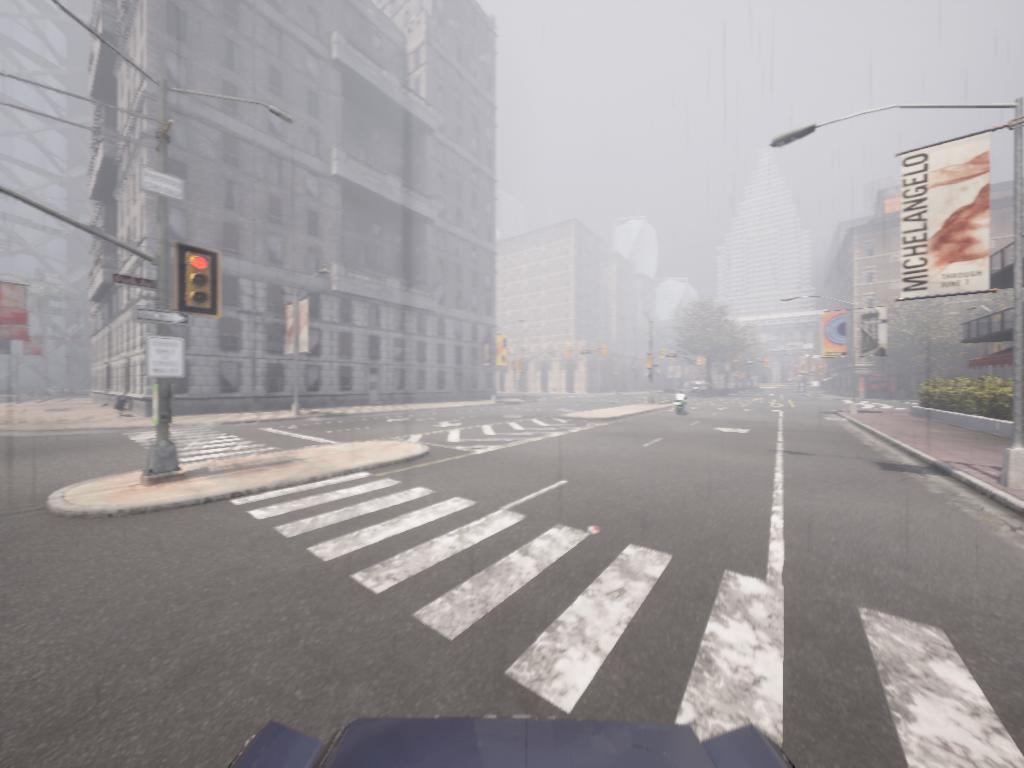traffic_light: (178, 245, 222, 317), (648, 355, 653, 372)
